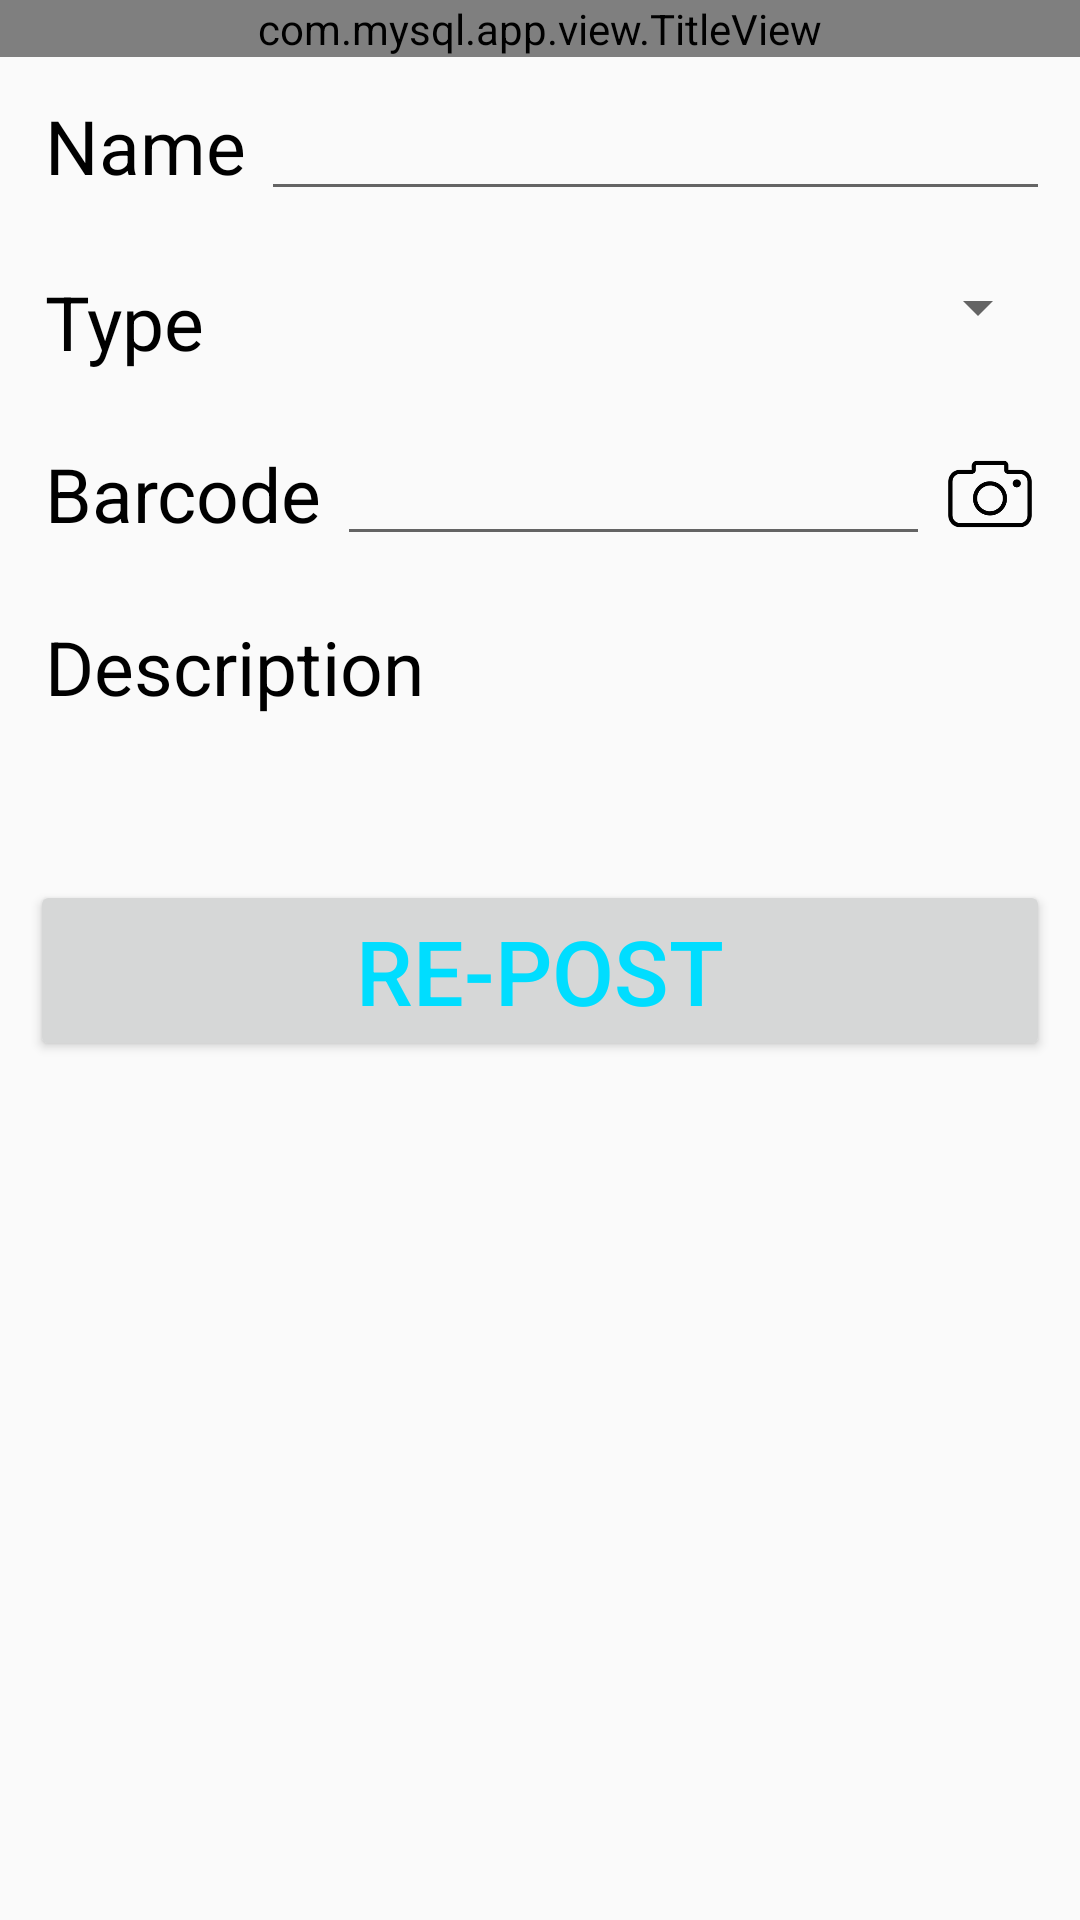

Icons on this 1080×1920 Android screen, each with the point to tap as (x,y):
scan: (990,494)
